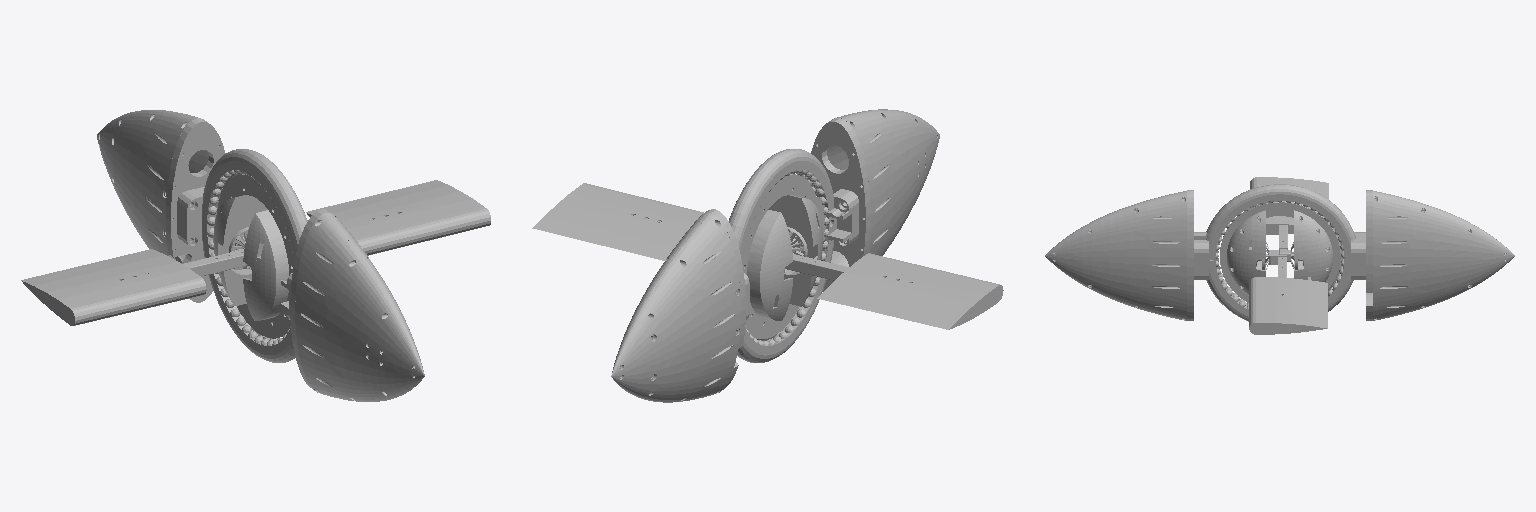
URDF robot description (spm-asm-v6.SLDASM):
<?xml version="1.0" encoding="utf-8"?>
<!-- This URDF was automatically created by SolidWorks to URDF Exporter! Originally created by [author] ([email redacted]) 
     Commit Version: 1.6.0-4-g7f85cfe  Build Version: 1.6.7995.38578
     For more information, please see http://wiki.ros.org/sw_urdf_exporter -->
<robot
  name="spm-asm-v6.SLDASM">
  <link
    name="body">
    <inertial>
      <origin
        xyz="-0.000421383538303415 0.332184070499596 -2.49856603214365E-05"
        rpy="0 0 0" />
      <mass
        value="1.26922827121308" />
      <inertia
        ixx="0.00712869589949337"
        ixy="2.05467603967552E-06"
        ixz="-1.26110535516475E-05"
        iyy="0.00356362051856473"
        iyz="-3.33176185448526E-07"
        izz="0.00385683095591035" />
    </inertial>
    <visual>
      <origin
        xyz="0 0 0"
        rpy="0 0 0" />
      <geometry>
        <mesh
          filename="package://spm-asm-v6.SLDASM/meshes/body.STL" />
      </geometry>
      <material
        name="">
        <color
          rgba="0.752941176470588 0.752941176470588 0.752941176470588 1" />
      </material>
    </visual>
    <collision>
      <origin
        xyz="0 0 0"
        rpy="0 0 0" />
      <geometry>
        <mesh
          filename="package://spm-asm-v6.SLDASM/meshes/body.STL" />
      </geometry>
    </collision>
  </link>
  <link
    name="egg">
    <inertial>
      <origin
        xyz="-0.000856870052106162 0.000347063522881013 -0.000438979878990969"
        rpy="0 0 0" />
      <mass
        value="0.359454466100374" />
      <inertia
        ixx="0.00046744587050428"
        ixy="3.35509051901726E-12"
        ixz="0.000120581531090257"
        iyy="0.000628654329683654"
        iyz="5.04013399503035E-12"
        izz="0.000288982854446198" />
    </inertial>
    <visual>
      <origin
        xyz="0 0 0"
        rpy="0 0 0" />
      <geometry>
        <mesh
          filename="package://spm-asm-v6.SLDASM/meshes/egg.STL" />
      </geometry>
      <material
        name="">
        <color
          rgba="0.752941176470588 0.752941176470588 0.752941176470588 1" />
      </material>
    </visual>
    <collision>
      <origin
        xyz="0 0 0"
        rpy="0 0 0" />
      <geometry>
        <mesh
          filename="package://spm-asm-v6.SLDASM/meshes/egg.STL" />
      </geometry>
    </collision>
  </link>
  <joint
    name="egg"
    type="continuous">
    <origin
      xyz="0 0.33 0"
      rpy="-0.0042072 0.47719 -1.5727" />
    <parent
      link="body" />
    <child
      link="egg" />
    <axis
      xyz="0 1 0" />
    <limit
      lower="-1.309"
      upper="1.309"
      effort="0.02"
      velocity="3.927" />
  </joint>
  <link
    name="left">
    <inertial>
      <origin
        xyz="0.135498595849044 0.000882305601416833 -0.0136485490400978"
        rpy="0 0 0" />
      <mass
        value="0.313897455052643" />
      <inertia
        ixx="0.000166677112614188"
        ixy="-3.63327768091806E-06"
        ixz="5.65922173970379E-05"
        iyy="0.000580132833015466"
        iyz="3.66054462476453E-07"
        izz="0.00072268241644618" />
    </inertial>
    <visual>
      <origin
        xyz="0 0 0"
        rpy="0 0 0" />
      <geometry>
        <mesh
          filename="package://spm-asm-v6.SLDASM/meshes/left.STL" />
      </geometry>
      <material
        name="">
        <color
          rgba="0.752941176470588 0.752941176470588 0.752941176470588 1" />
      </material>
    </visual>
    <collision>
      <origin
        xyz="0 0 0"
        rpy="0 0 0" />
      <geometry>
        <mesh
          filename="package://spm-asm-v6.SLDASM/meshes/left.STL" />
      </geometry>
    </collision>
  </link>
  <joint
    name="left"
    type="continuous">
    <origin
      xyz="0 0 0"
      rpy="-0.47575 -0.094629 1.6194" />
    <parent
      link="egg" />
    <child
      link="left" />
    <axis
      xyz="0 1 0" />
    <limit
      lower="-0.7854"
      upper="0.7854"
      effort="0.2"
      velocity="1" />
  </joint>
  <link
    name="right">
    <inertial>
      <origin
        xyz="0.134693560193067 -0.00249189131958033 -0.00671898153915416"
        rpy="0 0 0" />
      <mass
        value="0.306854747869197" />
      <inertia
        ixx="0.00016141276651425"
        ixy="1.13945933887369E-06"
        ixz="2.80513037956452E-05"
        iyy="0.000576085577233412"
        iyz="-5.68566029740095E-08"
        izz="0.00072219324390974" />
    </inertial>
    <visual>
      <origin
        xyz="0 0 0"
        rpy="0 0 0" />
      <geometry>
        <mesh
          filename="package://spm-asm-v6.SLDASM/meshes/right.STL" />
      </geometry>
      <material
        name="">
        <color
          rgba="0.752941176470588 0.752941176470588 0.752941176470588 1" />
      </material>
    </visual>
    <collision>
      <origin
        xyz="0 0 0"
        rpy="0 0 0" />
      <geometry>
        <mesh
          filename="package://spm-asm-v6.SLDASM/meshes/right.STL" />
      </geometry>
    </collision>
  </link>
  <joint
    name="right"
    type="continuous">
    <origin
      xyz="0 -0.00049999 0"
      rpy="0.47396 -0.044987 -1.5939" />
    <parent
      link="egg" />
    <child
      link="right" />
    <axis
      xyz="0 1 0" />
    <limit
      lower="-0.7854"
      upper="0.7854"
      effort="0.2"
      velocity="1" />
  </joint>
</robot>

--- Facts derived from the render (not from the file) ---
3 views of the same robot in one strip: view 1: azimuth 30°, elevation 25°; view 2: azimuth 150°, elevation 25°; view 3: azimuth 270°, elevation 25° (orthographic).
Robot: spm-asm-v6.SLDASM — 4 links, 3 joints (3 continuous); root link body; default pose: every joint at zero.
Links seen in each view (by area): view 1: body, right, egg, left; view 2: body, right, egg, left; view 3: body, egg, left, right.
Boxes of the visible links, x1,y1,x2,y2 form: body: (97,110,424,401); right: (21,249,246,325); egg: (213,173,293,338); left: (306,180,490,255); body: (611,109,939,402); right: (785,253,1003,329); egg: (742,174,822,340); left: (532,183,703,260); body: (1045,184,1514,321); egg: (1220,201,1342,302); left: (1249,250,1327,334); right: (1250,177,1328,261).
Size in the robot's own frame: 0.4822 by 0.66 by 0.2198 metres.
Meshes: 4 distinct files referenced, 4 mesh visuals loaded (4 binary STL).
